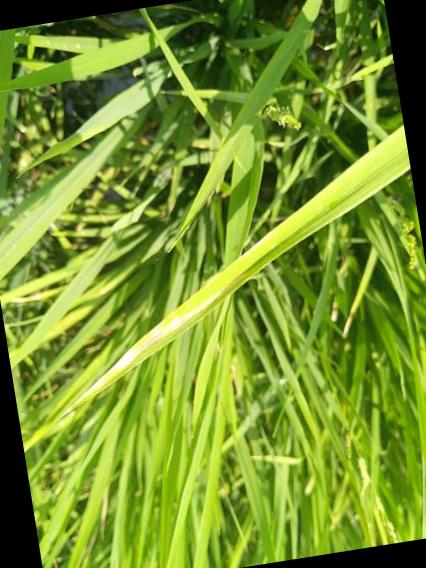Leaf Blight: (66, 236, 290, 413)
